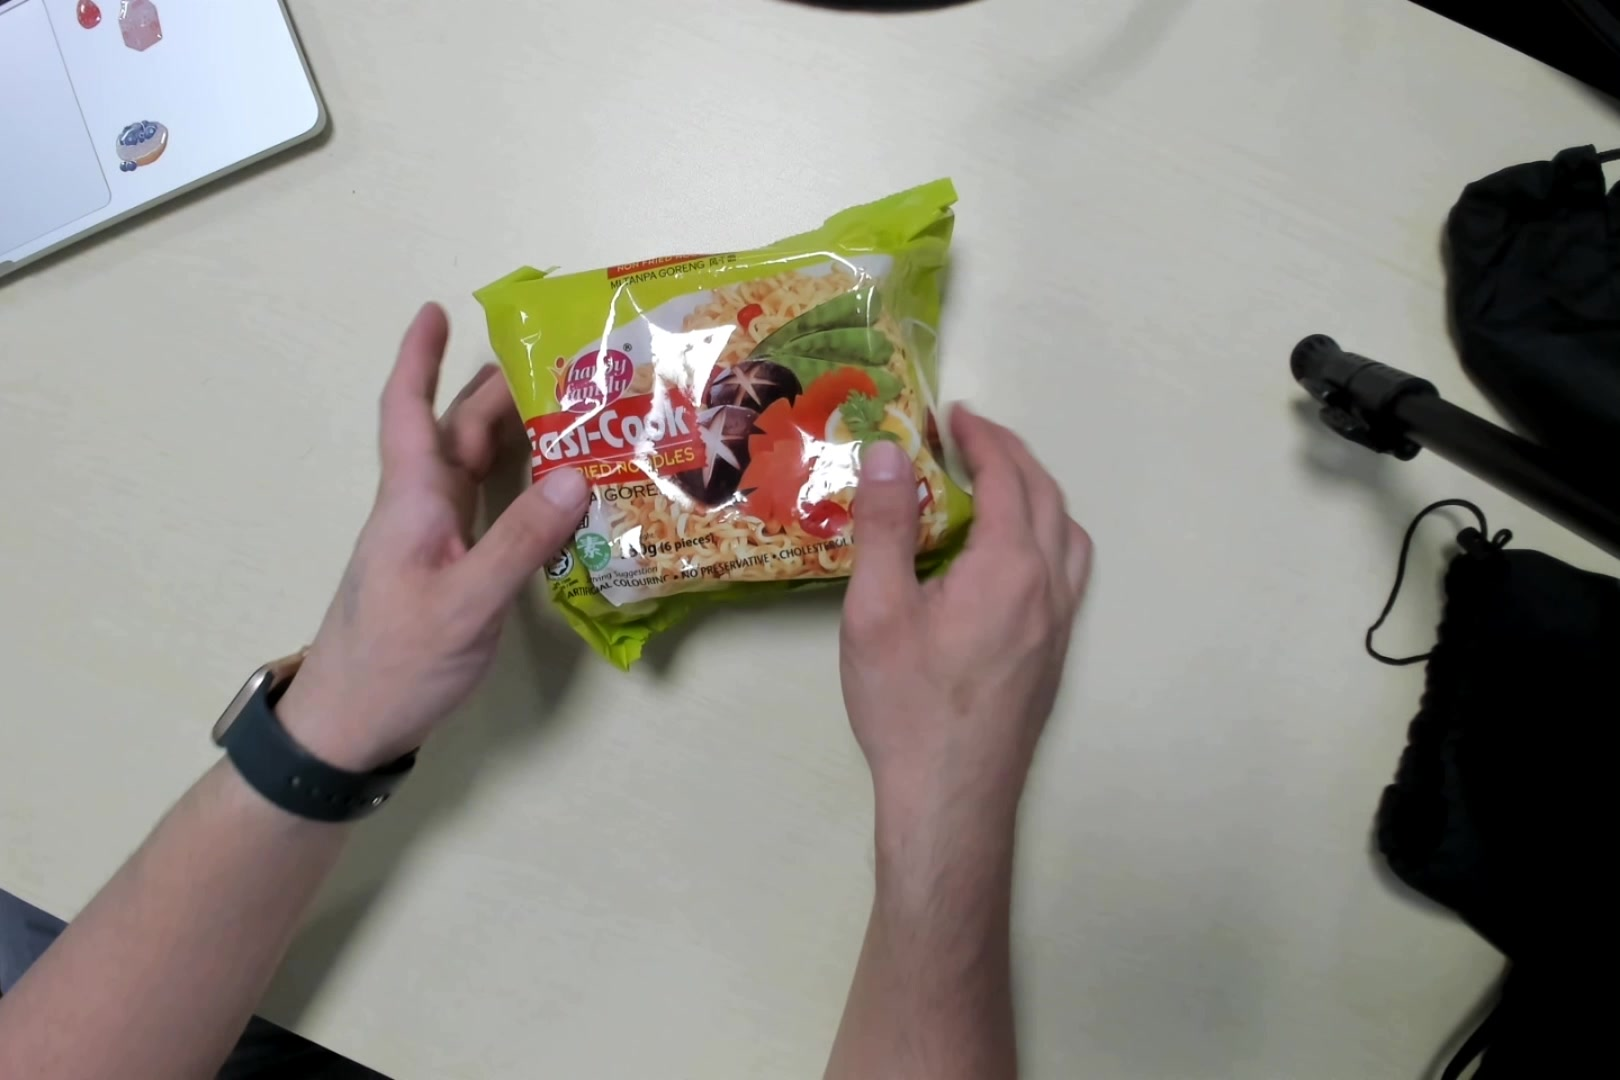OtherNoodles_300-399g_Halal_NonHealthy: (483, 180, 982, 657)
